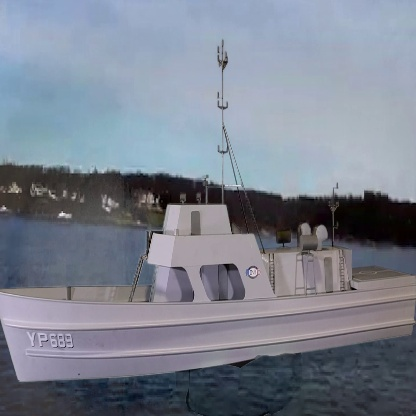YP689: (0, 29, 416, 387)
